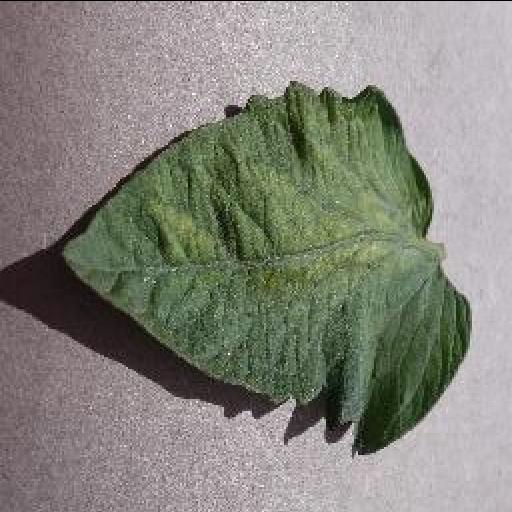disease_tomato: (62, 80, 474, 454)
